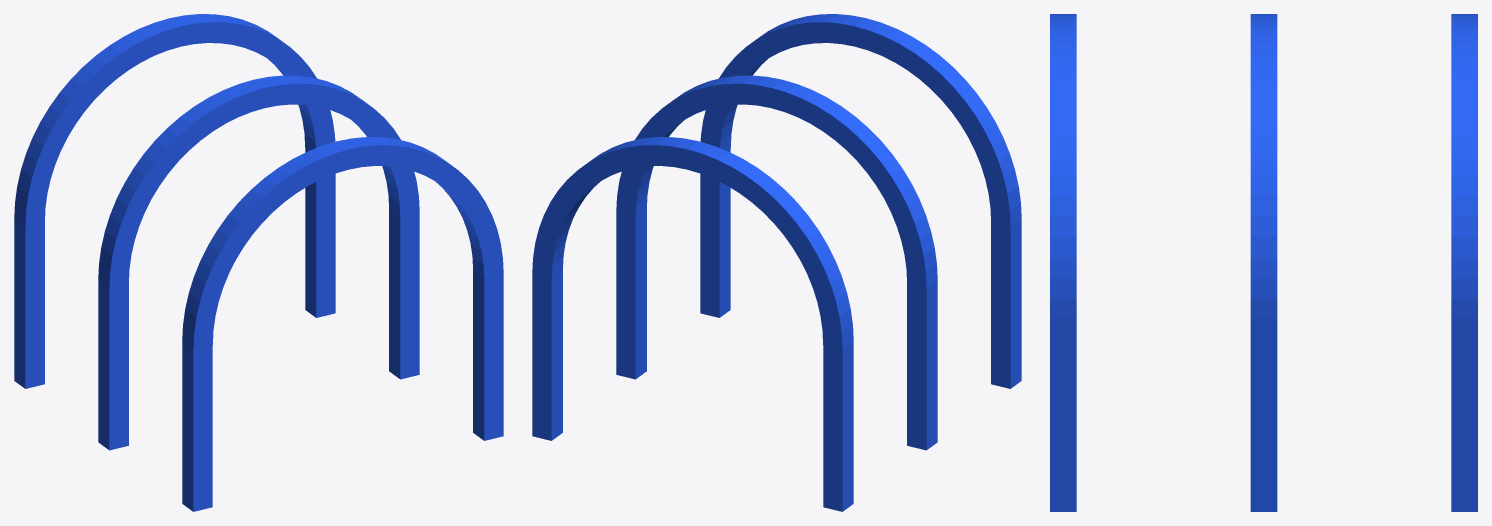
The model's file is fform_6.glb.
The picture shows the model from 3 angles, left to right: view 1: azimuth 30°, elevation 25°; view 2: azimuth 150°, elevation 25°; view 3: azimuth 270°, elevation 25°; orthographic projection. The views are drawn at different scales.
Parts seen in each view (by area): view 1: FFORM_0; view 2: FFORM_0; view 3: FFORM_0.
Part boxes in pixels (<box>): FFORM_0: <box>14,14,503,511</box>; FFORM_0: <box>532,14,1021,511</box>; FFORM_0: <box>1050,14,1477,511</box>.
Size of the model in its own units: 4 by 4 by 4.
